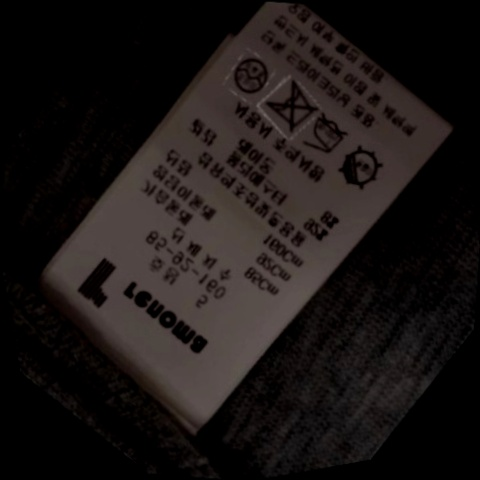DN_wash: (255, 76, 323, 138)
dry_clean_petrol_only: (222, 47, 276, 101)
iron_low: (296, 108, 357, 164)
line_dry_in_shade: (325, 140, 390, 198)
